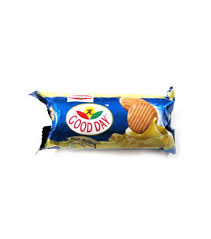gooday-small: (41, 98, 173, 150)
